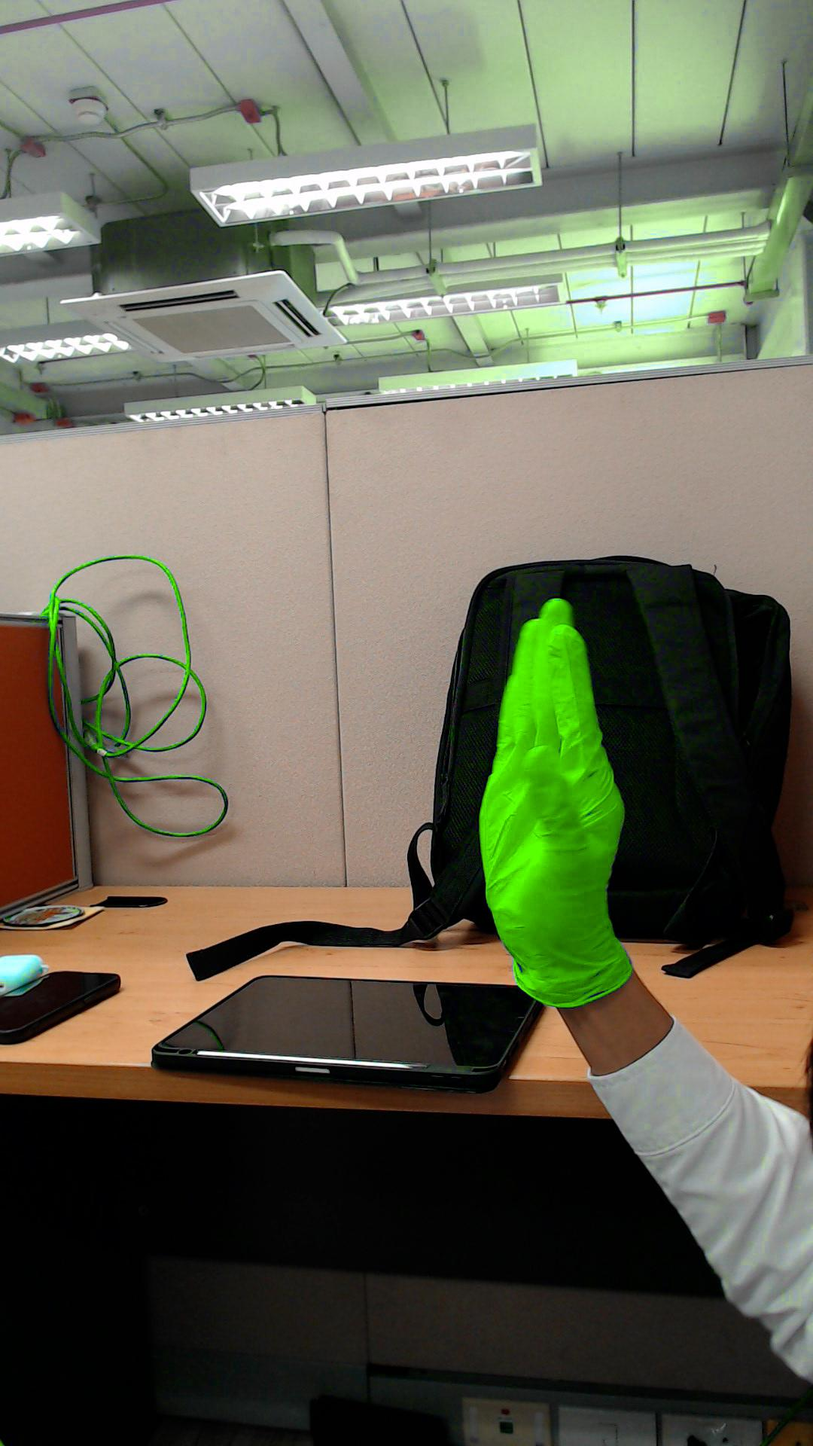gloves: (472, 584, 637, 949)
